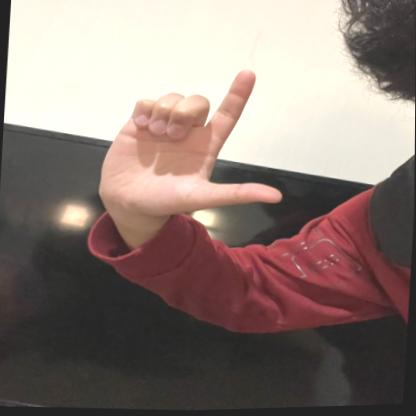L: (92, 59, 299, 230)
